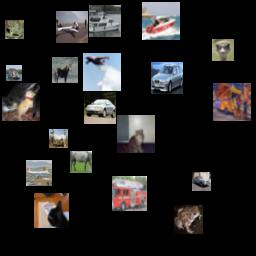airplane: (83, 53, 121, 91), (56, 11, 88, 43), (26, 160, 52, 186)
automobile: (84, 92, 116, 124), (151, 62, 183, 94), (192, 172, 211, 191)
bird: (212, 39, 234, 61)
cat: (2, 83, 40, 121), (117, 115, 155, 153), (34, 193, 69, 228)
frog: (174, 205, 203, 234), (5, 20, 24, 39)
ship: (142, 2, 180, 40), (89, 5, 121, 37), (6, 65, 22, 81)
truck: (213, 83, 251, 121), (112, 176, 147, 211)
